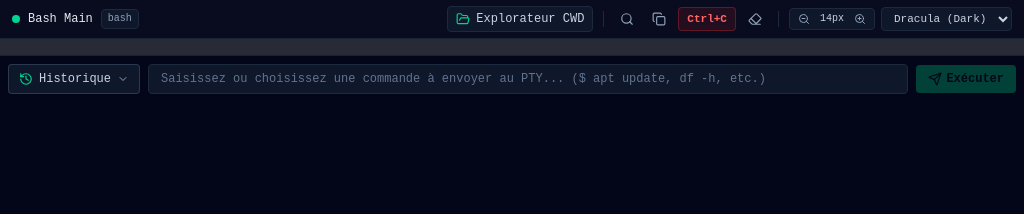
Test: TerminalView — mode web (WebSocket) › signale une erreur de chargement de l'explorateur
The image size is (1024, 214).
Click the button titled "Explorateur de fichiers synchronisé".
click(520, 19)  # box [447,6,593,32]
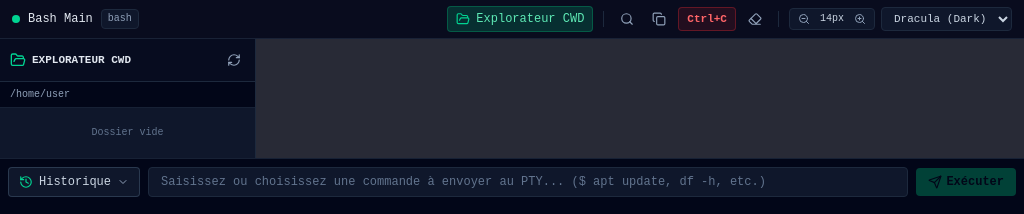
Check: the text "Dossier vide" is shown, box [92,127,164,138]
